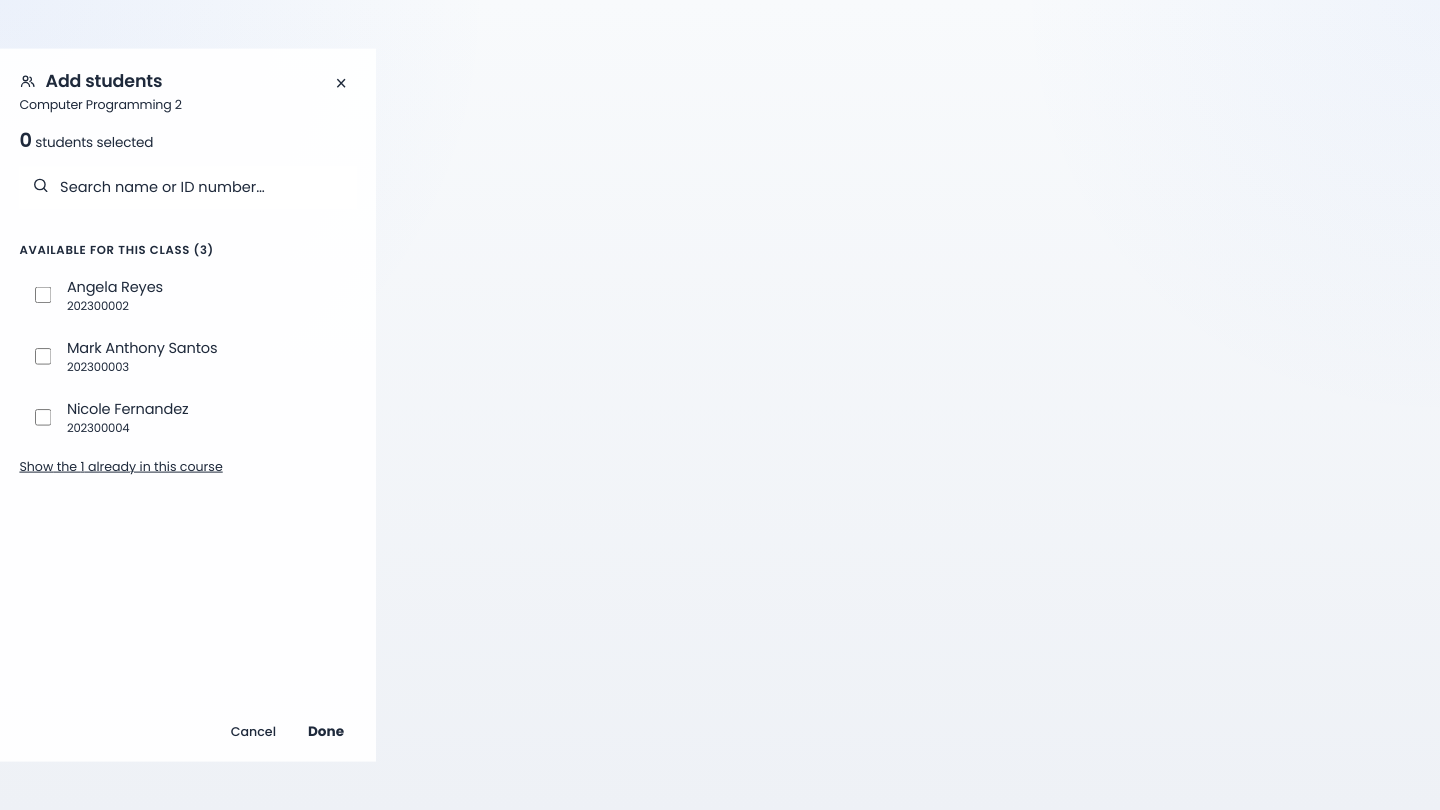
Test: PeoplePicker › says one student, not 1 students
Click the text "Angela Reyes": point(115, 287) 67,276 -> 163,297
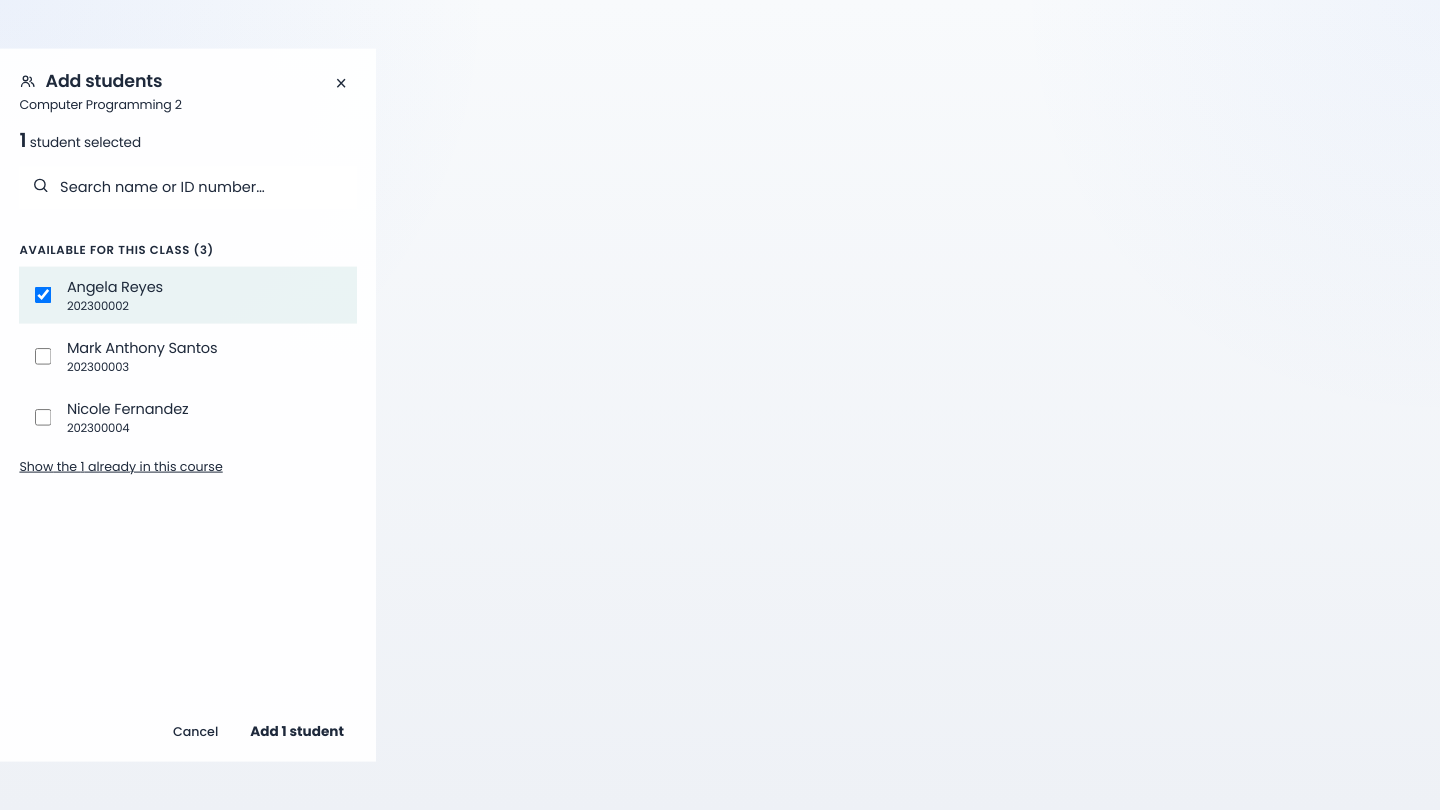
Now the message reads "1 student selected", box 19,127 -> 141,154
Now the button "Add 1 student" is shown, box 238,715 -> 357,748
